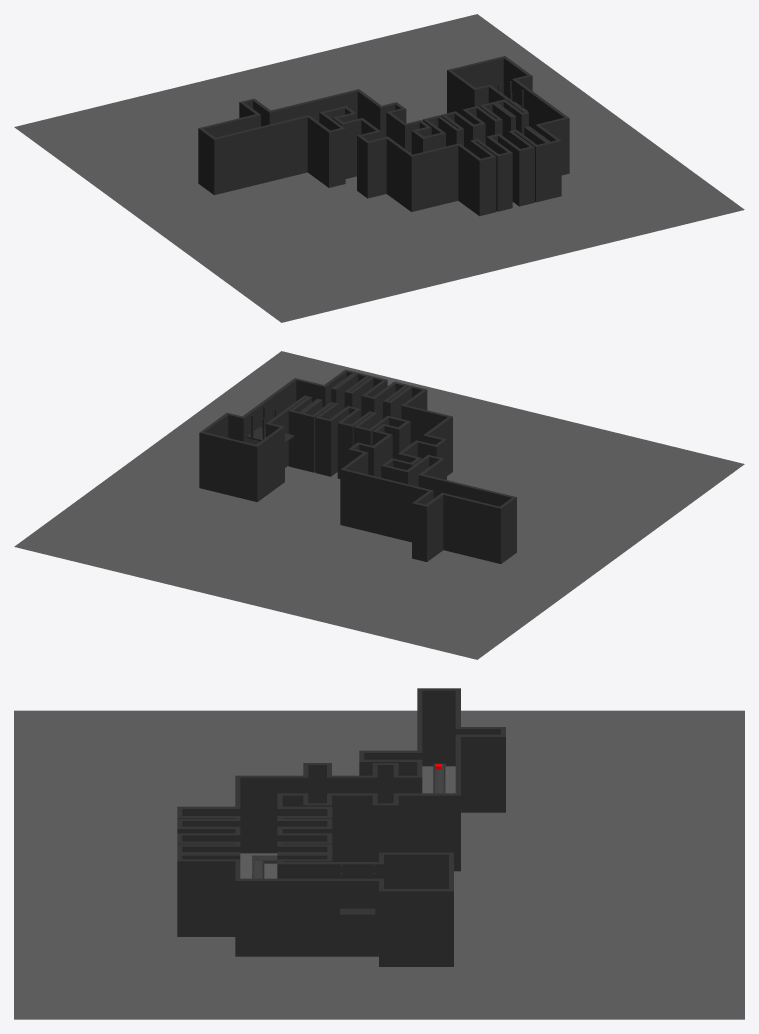
File: Level2_BlockOut.fbx
The picture shows the model from 3 angles, top to bottom: view 1: azimuth 30°, elevation 25°; view 2: azimuth 150°, elevation 25°; view 3: azimuth 270°, elevation 25°; orthographic projection. The views are drawn at different scales.
Parts seen in each view (by area): view 1: Sol, Walls; view 2: Sol, Walls; view 3: Sol, Walls, Conventor_Belt.
Boxes of the visible parts, x1,y1,x2,y2 form: Sol: (14,14,744,322); Walls: (198,56,569,216); Sol: (14,351,744,659); Walls: (199,369,516,563); Sol: (14,710,744,1019); Walls: (177,688,505,966); Conventor_Belt: (252,763,445,878).
Bounding box in the file's own units: 119 × 15.8 × 119.
